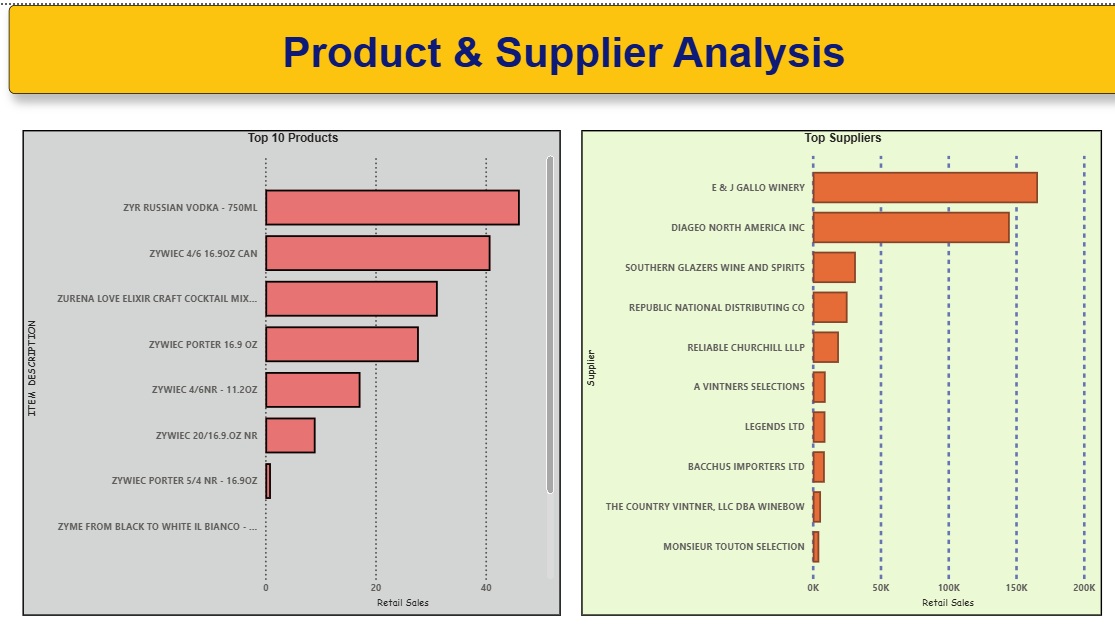

The page's visual inventory and layout, read from the dashboard file:
{"tool":"powerbi","page":{"name":"Product & Supplier Analysis","canvas":[1280,720],"ordinal":1},"visuals":[{"type":"textbox","title":"E","box":[10,0,1270,101.7],"z":0},{"type":"barChart","title":"Top 10 Products","fields":{"Category":["cleaned_retail_sales_analysis.ITEM DESCRIPTION"],"Y":["Sum(cleaned_retail_sales_analysis.RETAIL SALES)"]},"box":[25,143.3,615,555],"z":6000},{"type":"barChart","title":"Top Suppliers","fields":{"Y":["Sum(cleaned_retail_sales_analysis.RETAIL SALES)"],"Category":["cleaned_retail_sales_analysis.SUPPLIER"]},"box":[665,143.3,595,555],"z":7000}]}

Visuals, with their boxes in screenshot pixels (x1, y1, x2, y2), scaled from the page's 1280x720 canvas onto the 1115x626 screenshot:
"E" textbox: select_region(9, 0, 1114, 88)
"Top 10 Products" barChart: select_region(22, 125, 558, 607)
"Top Suppliers" barChart: select_region(579, 125, 1098, 607)
